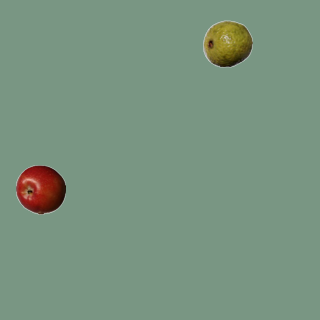Apple Braeburn: (15, 164, 65, 214)
Guava: (202, 18, 252, 68)
